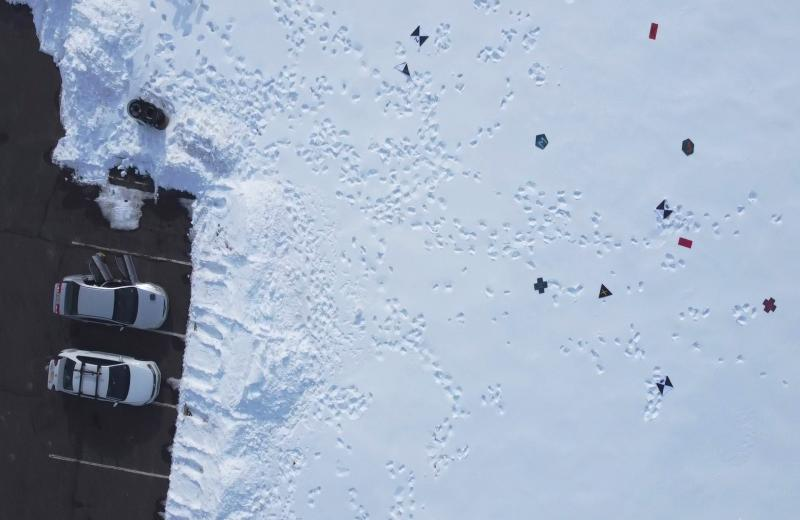Cross: (532, 276, 549, 295), (762, 296, 778, 315)
Hexagon: (680, 138, 696, 156)
Pentagon: (533, 131, 551, 152)
Rectangle: (646, 21, 662, 40), (678, 234, 694, 250)
Triangle: (598, 281, 614, 301)
